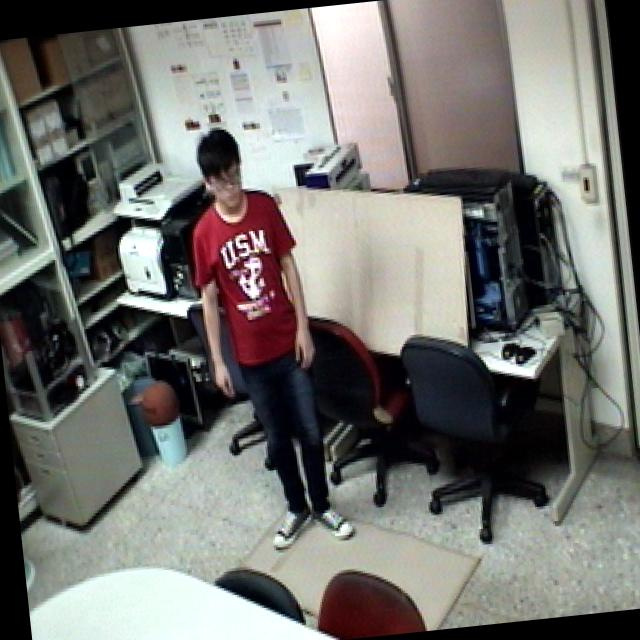stand: (168, 114, 363, 564)
